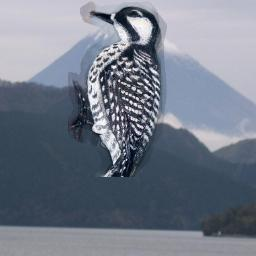Woodpecker: (68, 0, 167, 177)
